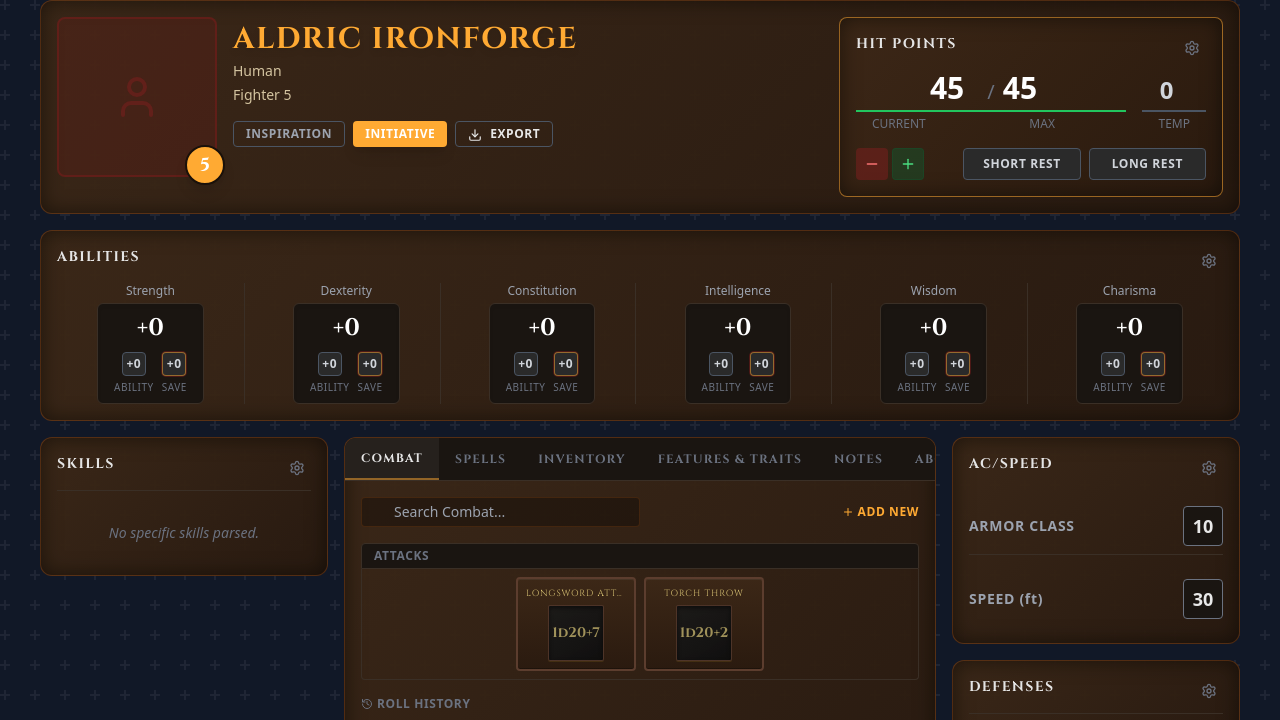
Test: Search filter in Combat tab › clears the filter when search is empty
Type "longsword" into the field with placeholder "Search Combat..." at (500, 512), box 361,497 -> 640,527
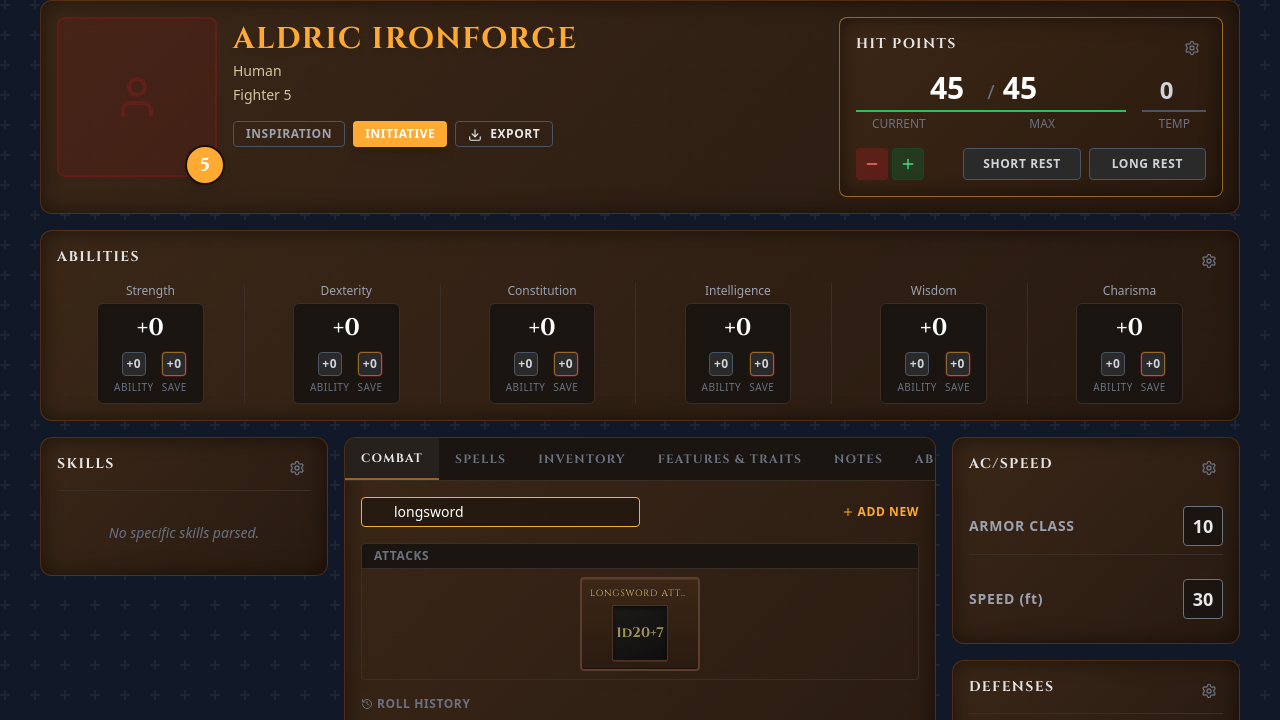
Clear the field with placeholder "Search Combat..." at (500, 512), box 361,497 -> 640,527
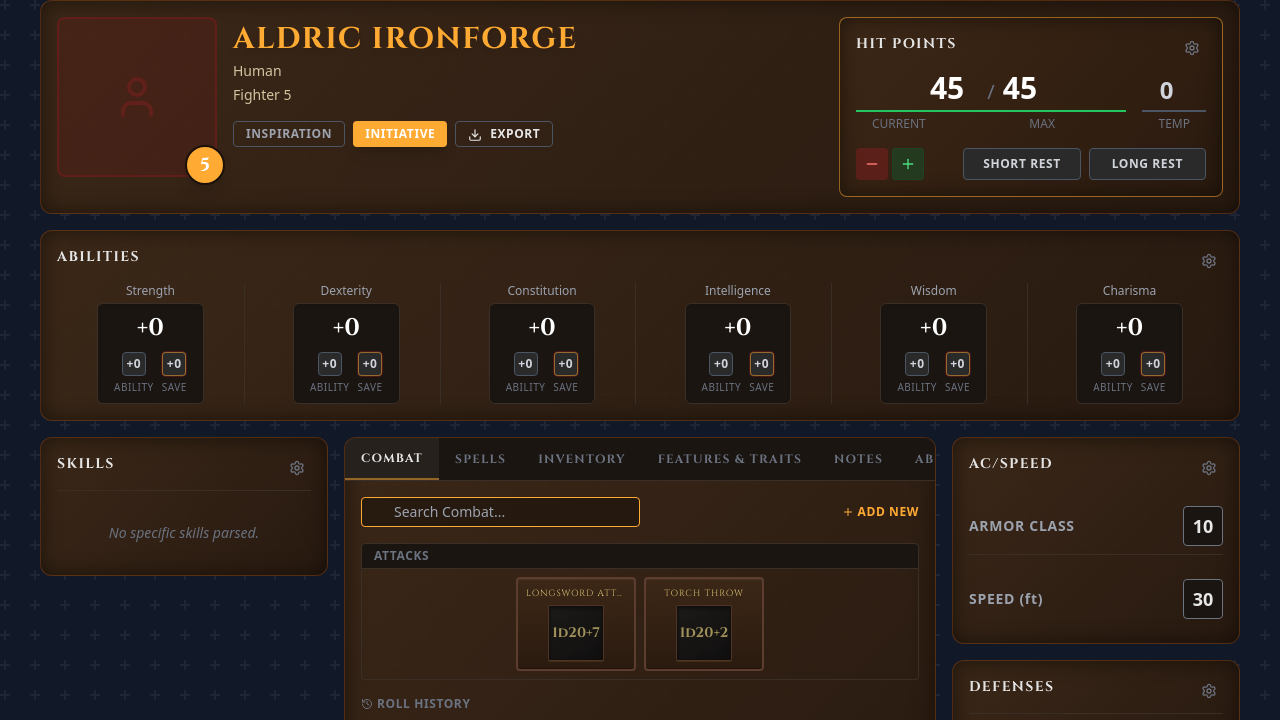
Expected: the text "Longsword Attack" is shown, 526,587 -> 626,600
Now the text "Torch Throw" is shown, box 664,587 -> 744,599
